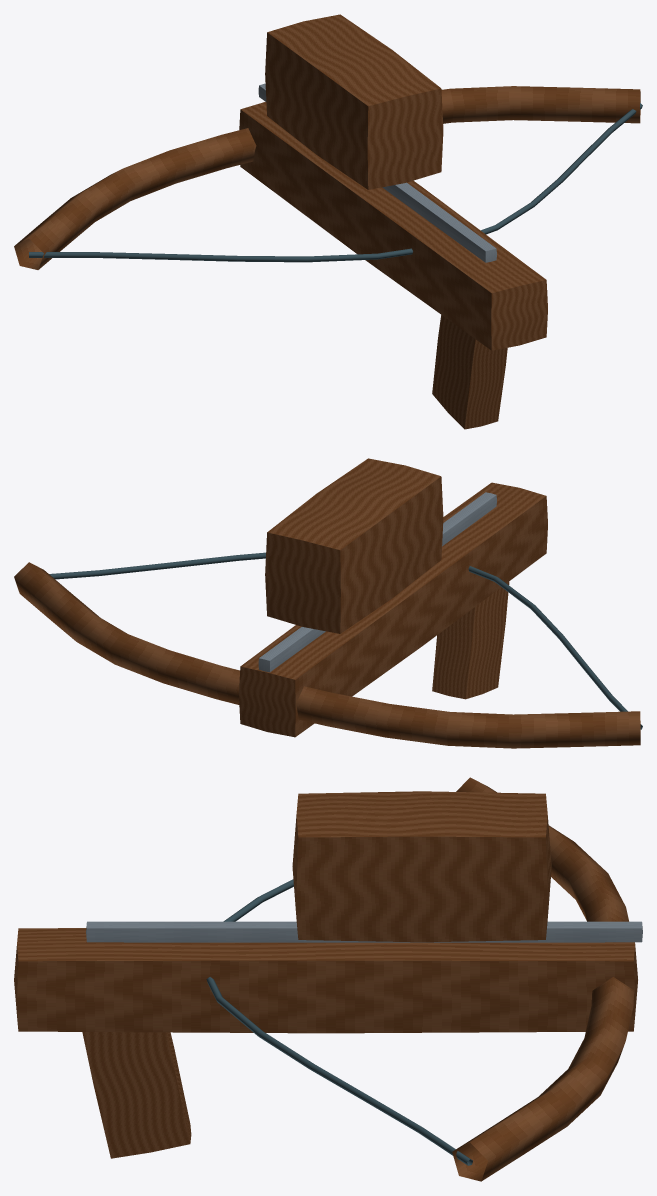
Rendered from repeating-crossbow.lod2.glb.
The picture shows the model from 3 angles, top to bottom: view 1: azimuth 30°, elevation 25°; view 2: azimuth 150°, elevation 25°; view 3: azimuth 270°, elevation 25°; orthographic projection. The views are drawn at different scales.
Visible parts, largest first — view 1: wood.0, wood.5, wood.2, wood.1, cloth.3, steel.4; view 2: wood.0, wood.5, wood.2, wood.1, cloth.3, steel.4; view 3: wood.0, wood.5, wood.2, wood.1, steel.4, cloth.3.
Boxes of the visible parts, <box> form: wood.0: <box>239,102,547,350</box>; wood.5: <box>265,14,443,189</box>; wood.2: <box>14,86,640,269</box>; wood.1: <box>432,315,507,429</box>; cloth.3: <box>29,103,642,262</box>; steel.4: <box>258,83,496,262</box>; wood.0: <box>239,482,547,737</box>; wood.5: <box>265,458,443,633</box>; wood.2: <box>14,562,640,748</box>; wood.1: <box>432,581,509,699</box>; cloth.3: <box>49,552,642,729</box>; steel.4: <box>258,492,496,672</box>; wood.0: <box>14,928,637,1033</box>; wood.5: <box>292,791,551,942</box>; wood.2: <box>452,777,634,1181</box>; wood.1: <box>82,1032,191,1158</box>; steel.4: <box>86,921,642,942</box>; cloth.3: <box>206,879,472,1165</box>.
Size of the model in its own units: 0.9225 by 0.3899 by 0.655.
3 materials, 3 textured.
